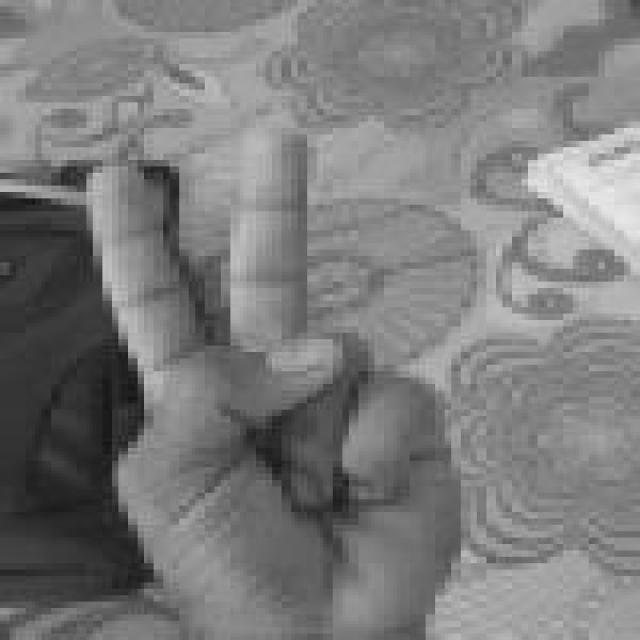V: (91, 118, 462, 640)
